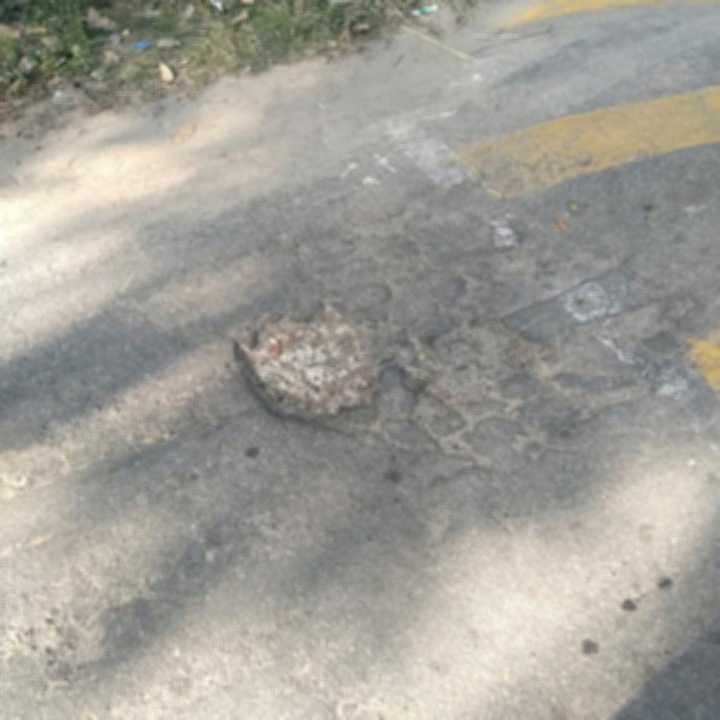pothole: (227, 301, 393, 430), (395, 316, 552, 410)
